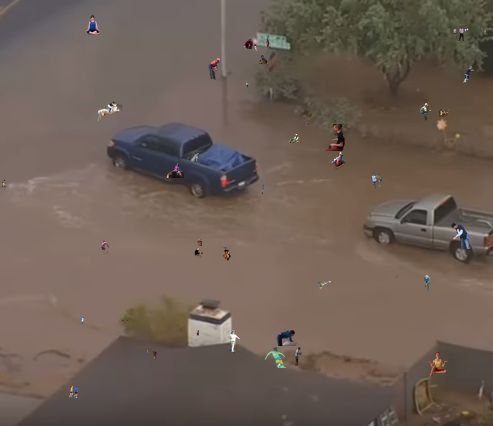Human: (325, 124, 345, 151), (96, 101, 123, 121), (427, 352, 449, 376), (264, 347, 289, 368), (451, 223, 471, 249), (194, 247, 231, 261), (276, 330, 308, 346), (166, 163, 191, 178), (329, 152, 348, 170), (228, 330, 242, 353), (208, 58, 221, 80), (86, 15, 100, 35), (453, 26, 469, 42), (254, 39, 271, 52), (420, 103, 432, 121), (147, 349, 166, 360), (463, 66, 475, 83), (371, 173, 383, 189), (367, 211, 375, 228), (101, 240, 110, 255), (295, 347, 302, 366), (258, 55, 269, 65), (242, 39, 253, 49), (424, 275, 430, 293), (69, 386, 78, 398), (318, 281, 331, 289), (288, 134, 299, 143), (439, 109, 449, 117), (1, 179, 6, 188), (79, 317, 85, 324), (197, 239, 202, 246), (261, 184, 264, 194), (122, 319, 129, 323), (395, 273, 399, 279), (196, 153, 199, 161), (383, 23, 386, 30), (481, 29, 486, 33), (246, 82, 249, 88), (305, 122, 308, 128), (196, 330, 199, 336)
